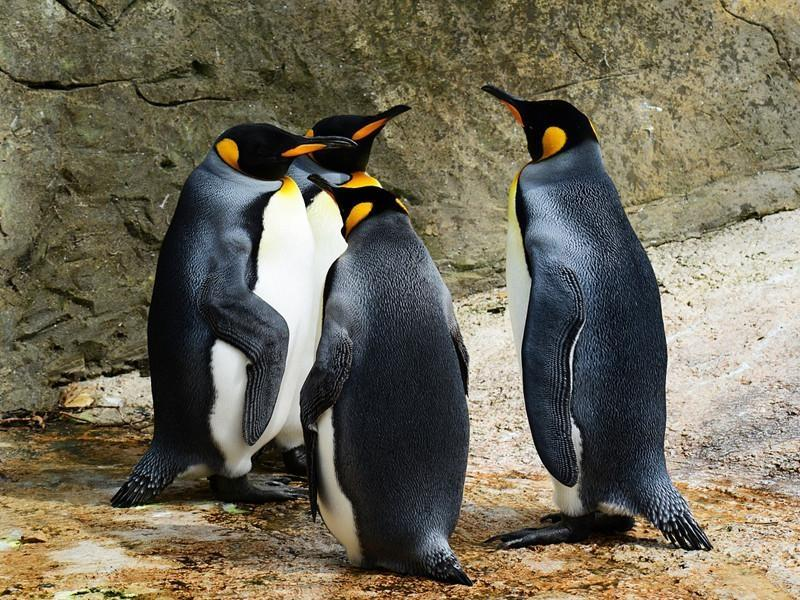Penguin: (483, 86, 711, 549), (111, 123, 352, 506), (300, 175, 471, 583), (288, 105, 411, 301), (274, 398, 307, 477)
